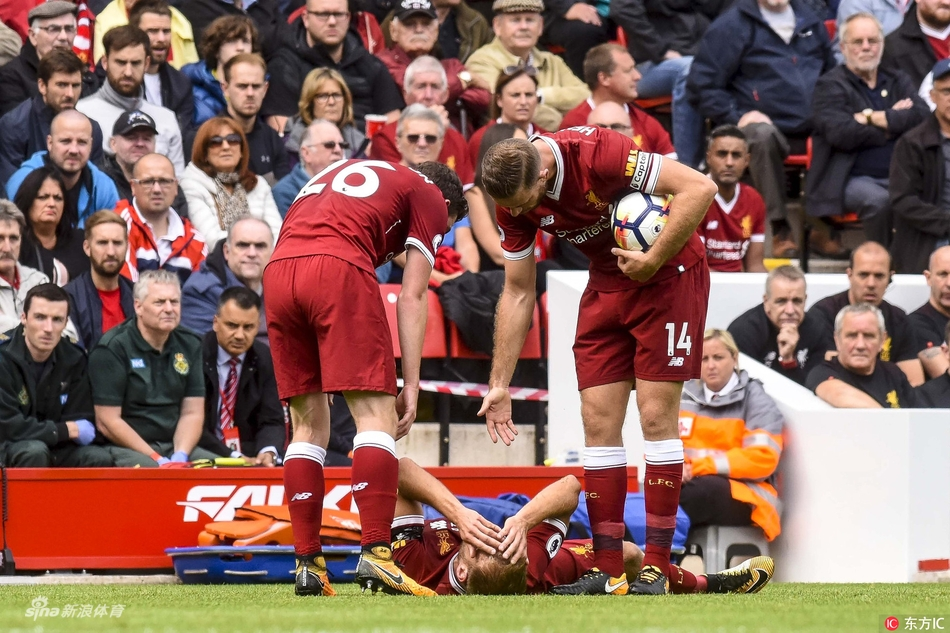10+: (1, 1, 950, 603)
down: (344, 462, 691, 599)
